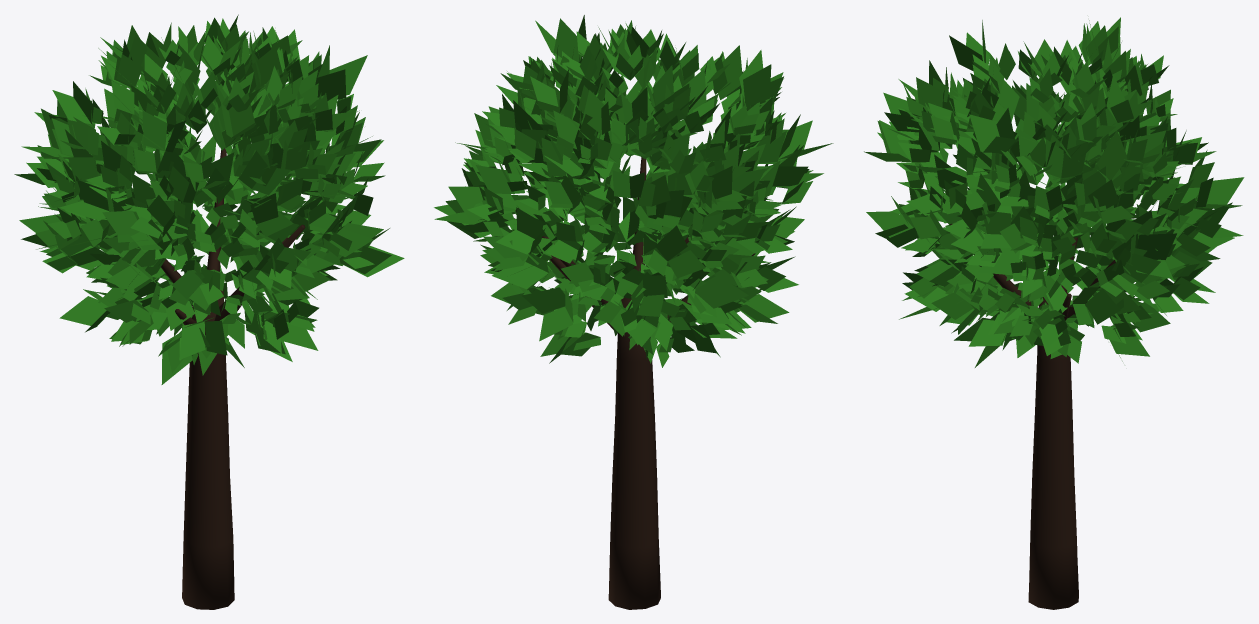
Rendered from Tree_10_A_LOD0.obj.
3 views of the same model, side by side, from view 1: azimuth 30°, elevation 25°; view 2: azimuth 150°, elevation 25°; view 3: azimuth 270°, elevation 25° (orthographic).
Parts seen in each view (by area): view 1: Leaves, Trunk; view 2: Leaves, Trunk; view 3: Leaves, Trunk.
Boxes of the visible parts, bbox=[...] form: Leaves: bbox=[14, 14, 404, 384]; Trunk: bbox=[161, 148, 305, 609]; Leaves: bbox=[434, 15, 833, 367]; Trunk: bbox=[515, 157, 755, 609]; Leaves: bbox=[864, 17, 1244, 367]; Trunk: bbox=[949, 223, 1115, 609].
Size of the model in its own units: 6.36 by 10.47 by 6.48.
